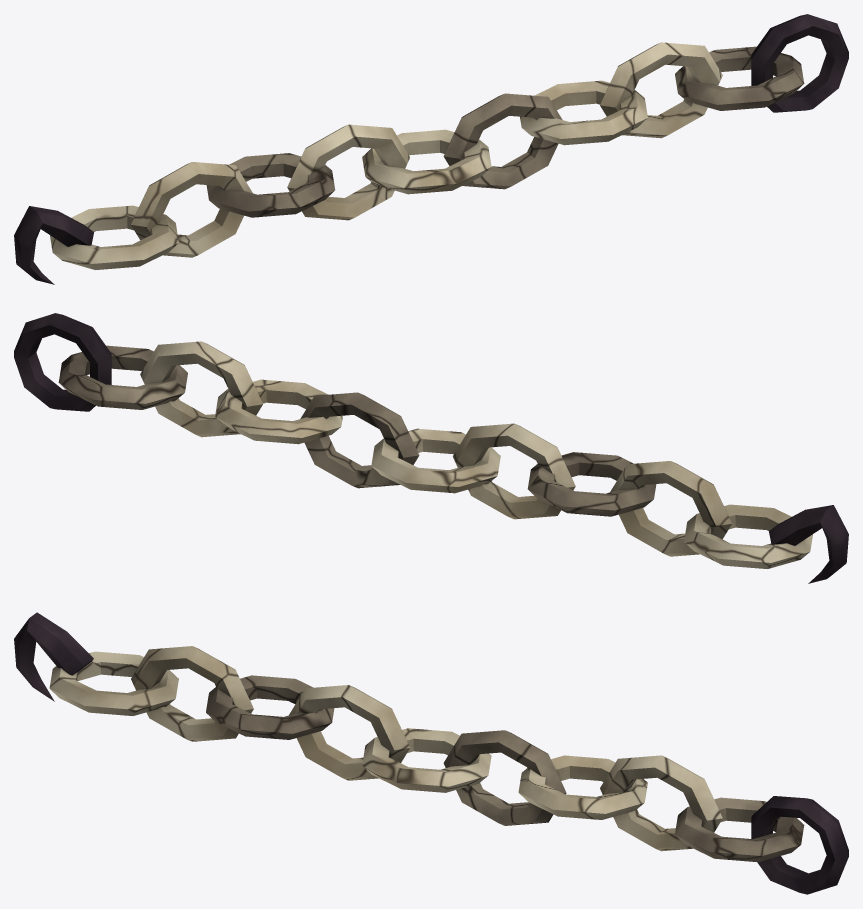
File: cadena_hueso.fbx
The picture shows the model from 3 angles, top to bottom: view 1: azimuth 30°, elevation 25°; view 2: azimuth 150°, elevation 25°; view 3: azimuth 330°, elevation 25°; orthographic projection.
Parts seen in each view (by area): view 1: cadena; view 2: cadena; view 3: cadena.
Boxes of the visible parts, x1,y1,x2,y2 form: cadena: [14, 14, 848, 284]; cadena: [14, 313, 848, 583]; cadena: [14, 612, 848, 894].
Bounding box in the file's own units: 4 × 0.5 × 0.5.
1 material, 1 textured.
